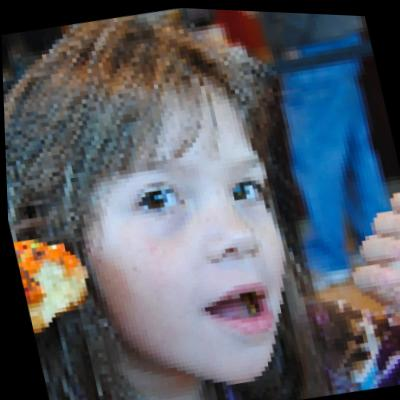surprise: (33, 52, 315, 400)
